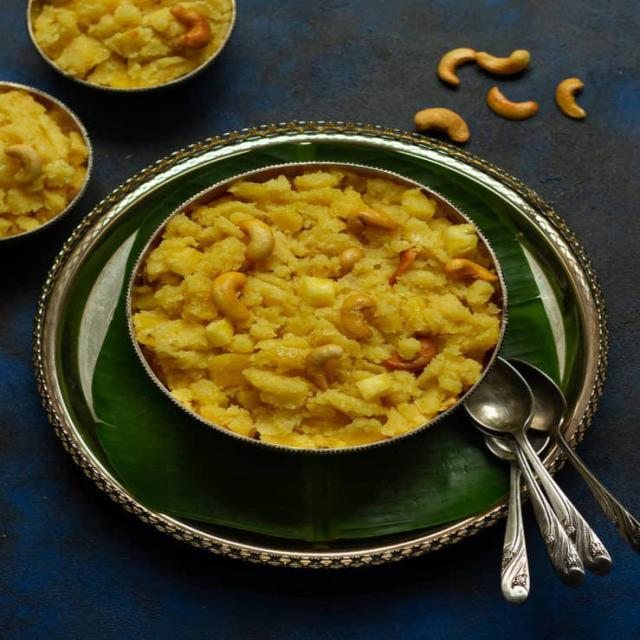kesari bath: (128, 156, 524, 467), (11, 0, 256, 94), (0, 78, 95, 243)
